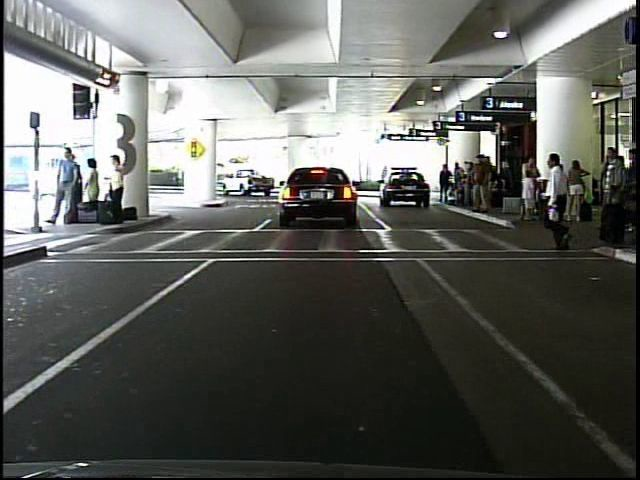person: (538, 143, 592, 258), (50, 144, 81, 227), (83, 154, 106, 222), (110, 150, 130, 226), (437, 163, 453, 207), (176, 164, 187, 189)
